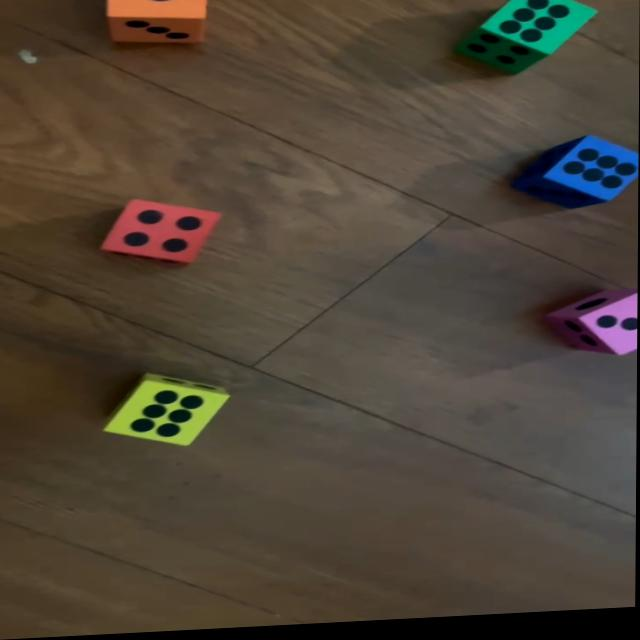blue_block: (514, 140, 639, 215)
red_block: (102, 197, 221, 269)
